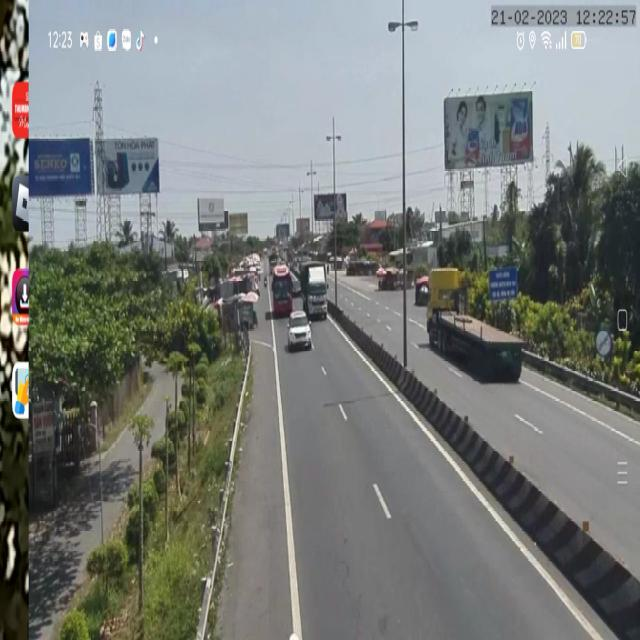bus: (270, 261, 294, 320)
car: (287, 306, 312, 354)
truck: (427, 264, 525, 382), (296, 258, 328, 320)
